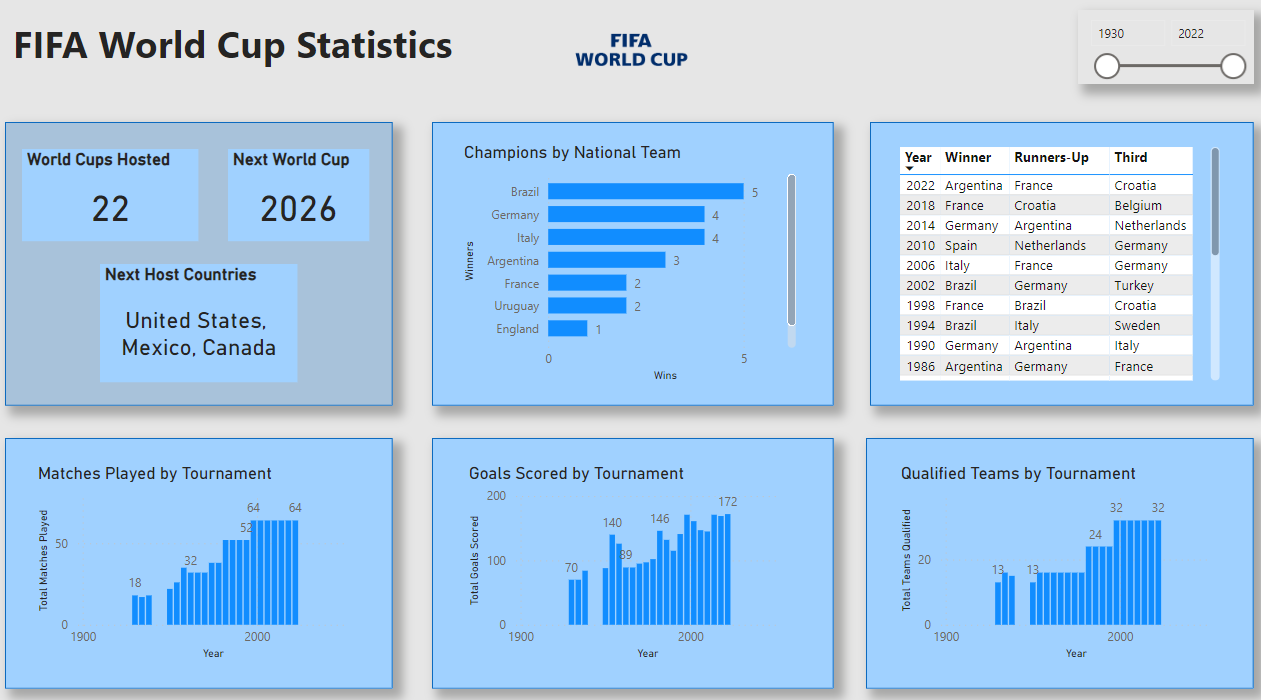

Layout of this report page (visuals, bound fields, positions):
{"tool":"powerbi","page":{"name":"Page 1","canvas":[1280,720],"ordinal":0},"visuals":[{"type":"shape","box":[876.3,447.6,386.8,250.2],"z":0},{"type":"shape","box":[442.6,447.6,400.7,250.2],"z":1000},{"type":"shape","box":[16.9,447.6,386.8,250.2],"z":2000},{"type":"shape","box":[880.2,132.6,382.8,283.1],"z":3000},{"type":"shape","box":[442.6,132.6,400.7,283.1],"z":4000},{"type":"shape","box":[16.9,132.6,386.8,283.1],"z":5000},{"type":"columnChart","title":"Goals Scored by Tournament ","fields":{"Y":["Sum(world_cups.Goals Scored)"],"Category":["world_cups.Year"]},"box":[474.5,472.5,330,200.4],"z":6000},{"type":"clusteredColumnChart","title":"Matches Played by Tournament ","fields":{"Category":["world_cups.Year"],"Y":["Sum(world_cups.Matches Played)"]},"box":[44.9,472.5,330,200.4],"z":7000},{"type":"clusteredColumnChart","title":"Qualified Teams by Tournament ","fields":{"Category":["world_cups.Year"],"Y":["Sum(world_cups.Qualified Teams)"]},"box":[906.2,472.5,330,200.4],"z":8000},{"type":"tableEx","fields":{"Values":["world_cups.Year","world_cups.Winner","world_cups.Runners-Up","world_cups.Third"]},"box":[904.2,152.5,330,243.2],"z":9000},{"type":"barChart","title":"Champions by National Team","fields":{"Category":["UniqueWinners.Unique Winner"],"Y":["world_cups.Wins"]},"box":[469.5,152.5,340.9,243.2],"z":10000},{"type":"slicer","fields":{"Values":["world_cups.Year"]},"box":[1087.5,21,175.6,73.8],"z":11000},{"type":"textbox","box":[20,23.9,577.6,70.8],"z":12000},{"type":"card","title":"World Cups Hosted","fields":{"Values":["CountNonNull(WorldCup.Year)"]},"box":[33.9,159.5,176.4,91.7],"z":13000},{"type":"card","title":"Next Host Countries","fields":{"Values":["Min(UpcomingWorldCup.Host Country)"]},"box":[111.7,274.1,197.4,117.6],"z":14000},{"type":"card","title":"Next World Cup","fields":{"Values":["Sum(UpcomingWorldCup.Year)"]},"box":[239.3,159.5,140.6,91.7],"z":15000},{"type":"image","box":[574.7,0,134.7,119.7],"z":16000}]}

Visuals, with their boxes in screenshot pixels (x1, y1, x2, y2), scaled from the page's 1280x720 canvas onto the 1261x700 screenshot:
shape: crop(863, 435, 1244, 678)
shape: crop(436, 435, 831, 678)
shape: crop(17, 435, 398, 678)
shape: crop(867, 129, 1244, 404)
shape: crop(436, 129, 831, 404)
shape: crop(17, 129, 398, 404)
"Goals Scored by Tournament " columnChart: crop(467, 459, 793, 654)
"Matches Played by Tournament " clusteredColumnChart: crop(44, 459, 369, 654)
"Qualified Teams by Tournament " clusteredColumnChart: crop(893, 459, 1218, 654)
tableEx - world_cups.Year x world_cups.Winner: crop(891, 148, 1216, 385)
"Champions by National Team" barChart: crop(463, 148, 798, 385)
slicer - world_cups.Year: crop(1071, 20, 1244, 92)
textbox: crop(20, 23, 589, 92)
"World Cups Hosted" card: crop(33, 155, 207, 244)
"Next Host Countries" card: crop(110, 266, 305, 381)
"Next World Cup" card: crop(236, 155, 374, 244)
image: crop(566, 0, 699, 116)
